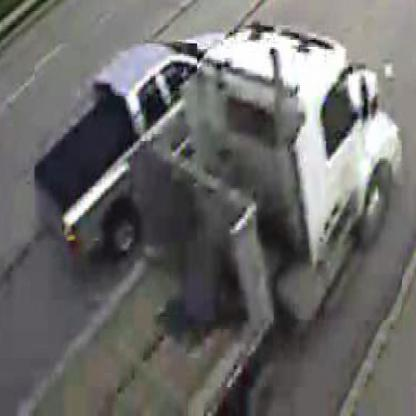car: (36, 45, 199, 244)
container: (200, 50, 404, 323)
